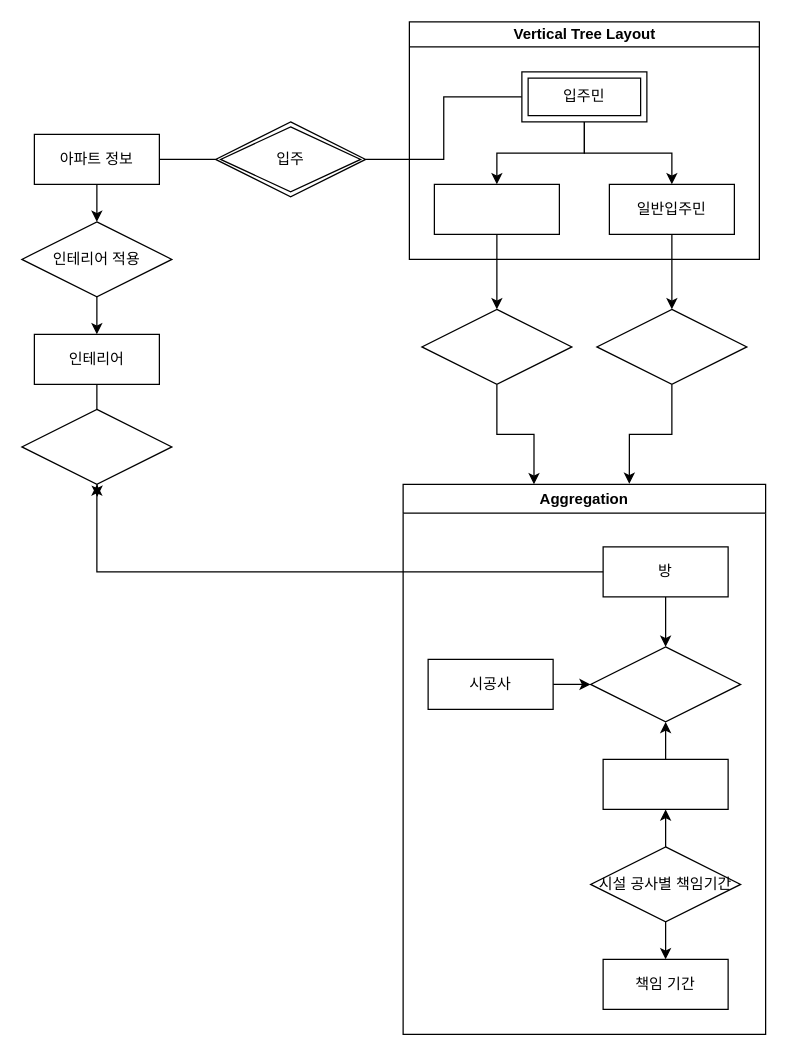
The diagram is 788 pixels wide and 1056 high, and some of its shapes have lost their labels. The shapes that lost their labels are listed below. From the top down, each one's centre as x and y in pixels, then its label:
(496,208): 입주민대표
(496,346): 공유 하자신청
(671,346): 개인 하자신청
(96,446): 적용한 방 배치
(665,684): 분야별 시공
(665,783): 시설 공사
